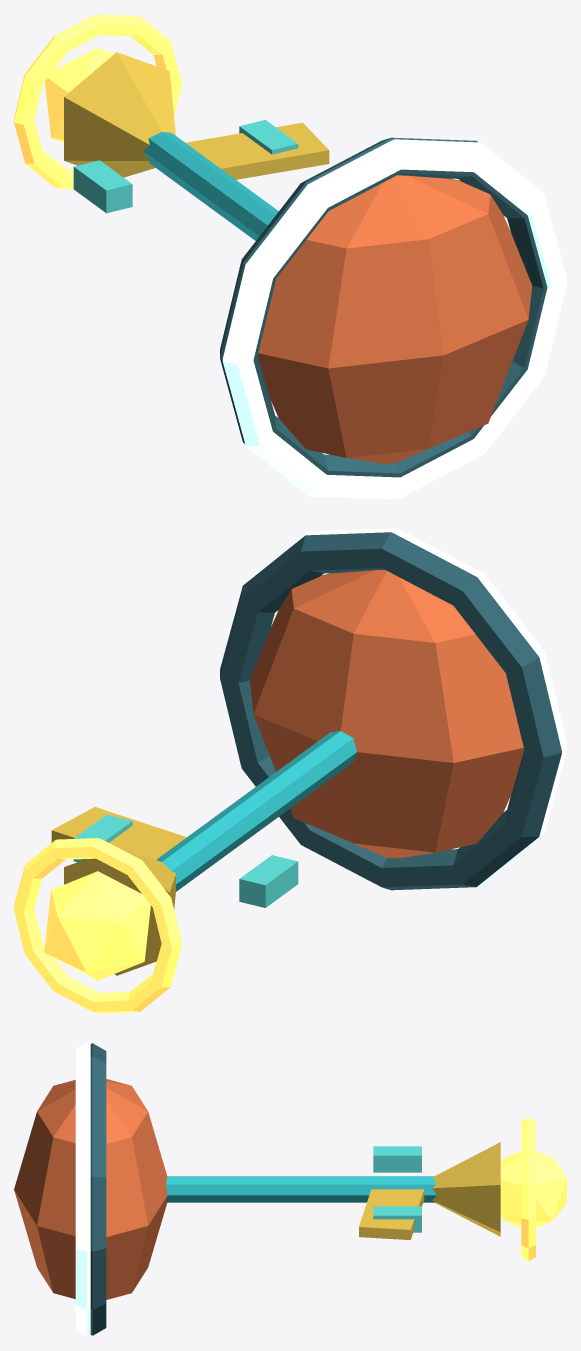
Rendered from wavebreak_buoy_refined.glb.
3 renders of one model, top to bottom at view 1: azimuth 30°, elevation 25°; view 2: azimuth 150°, elevation 25°; view 3: azimuth 270°, elevation 25°, orthographic. The views are drawn at different scales.
Parts seen in each view (by area): view 1: Buoy_Float, Buoy_FoamRing, Buoy_Ring, Buoy_Top, Buoy_BeaconHalo, Buoy_Pole, Buoy_Flag, Buoy_Beacon, Buoy_MarkerStripe, Buoy_MarkerStripe.001; view 2: Buoy_Float, Buoy_Ring, Buoy_BeaconHalo, Buoy_Beacon, Buoy_Pole, Buoy_FoamRing, Buoy_Flag, Buoy_Top, Buoy_MarkerStripe, Buoy_MarkerStripe.001; view 3: Buoy_Float, Buoy_Pole, Buoy_Ring, Buoy_FoamRing, Buoy_Top, Buoy_Beacon, Buoy_Flag, Buoy_BeaconHalo, Buoy_MarkerStripe, Buoy_MarkerStripe.001.
Part boxes in pixels (x1,y1,x2,y2): Buoy_Float: (258, 175, 532, 463); Buoy_FoamRing: (222, 139, 566, 499); Buoy_Ring: (220, 137, 547, 477); Buoy_Top: (64, 52, 175, 177); Buoy_BeaconHalo: (14, 14, 181, 188); Buoy_Pole: (143, 132, 278, 240); Buoy_Flag: (185, 122, 329, 179); Buoy_Beacon: (45, 47, 113, 142); Buoy_MarkerStripe: (73, 160, 132, 213); Buoy_MarkerStripe.001: (239, 120, 298, 154); Buoy_Float: (250, 570, 524, 858); Buoy_Ring: (220, 532, 561, 890); Buoy_BeaconHalo: (14, 838, 181, 1013); Buoy_Beacon: (44, 871, 150, 980); Buoy_Pole: (156, 731, 356, 891); Buoy_FoamRing: (245, 528, 566, 885); Buoy_Flag: (51, 807, 186, 859); Buoy_Top: (64, 850, 176, 975); Buoy_MarkerStripe: (239, 855, 298, 907); Buoy_MarkerStripe.001: (73, 814, 132, 862); Buoy_Float: (14, 1079, 167, 1299); Buoy_Pole: (166, 1176, 436, 1202); Buoy_Ring: (90, 1043, 106, 1335); Buoy_FoamRing: (75, 1042, 90, 1336); Buoy_Top: (432, 1142, 500, 1236); Buoy_Beacon: (500, 1151, 566, 1227); Buoy_Flag: (359, 1189, 424, 1240); Buoy_BeaconHalo: (521, 1118, 535, 1260); Buoy_MarkerStripe: (373, 1146, 421, 1172); Buoy_MarkerStripe.001: (373, 1206, 421, 1232).
Size of the model in its own units: 1.58 by 1.58 by 2.95.
